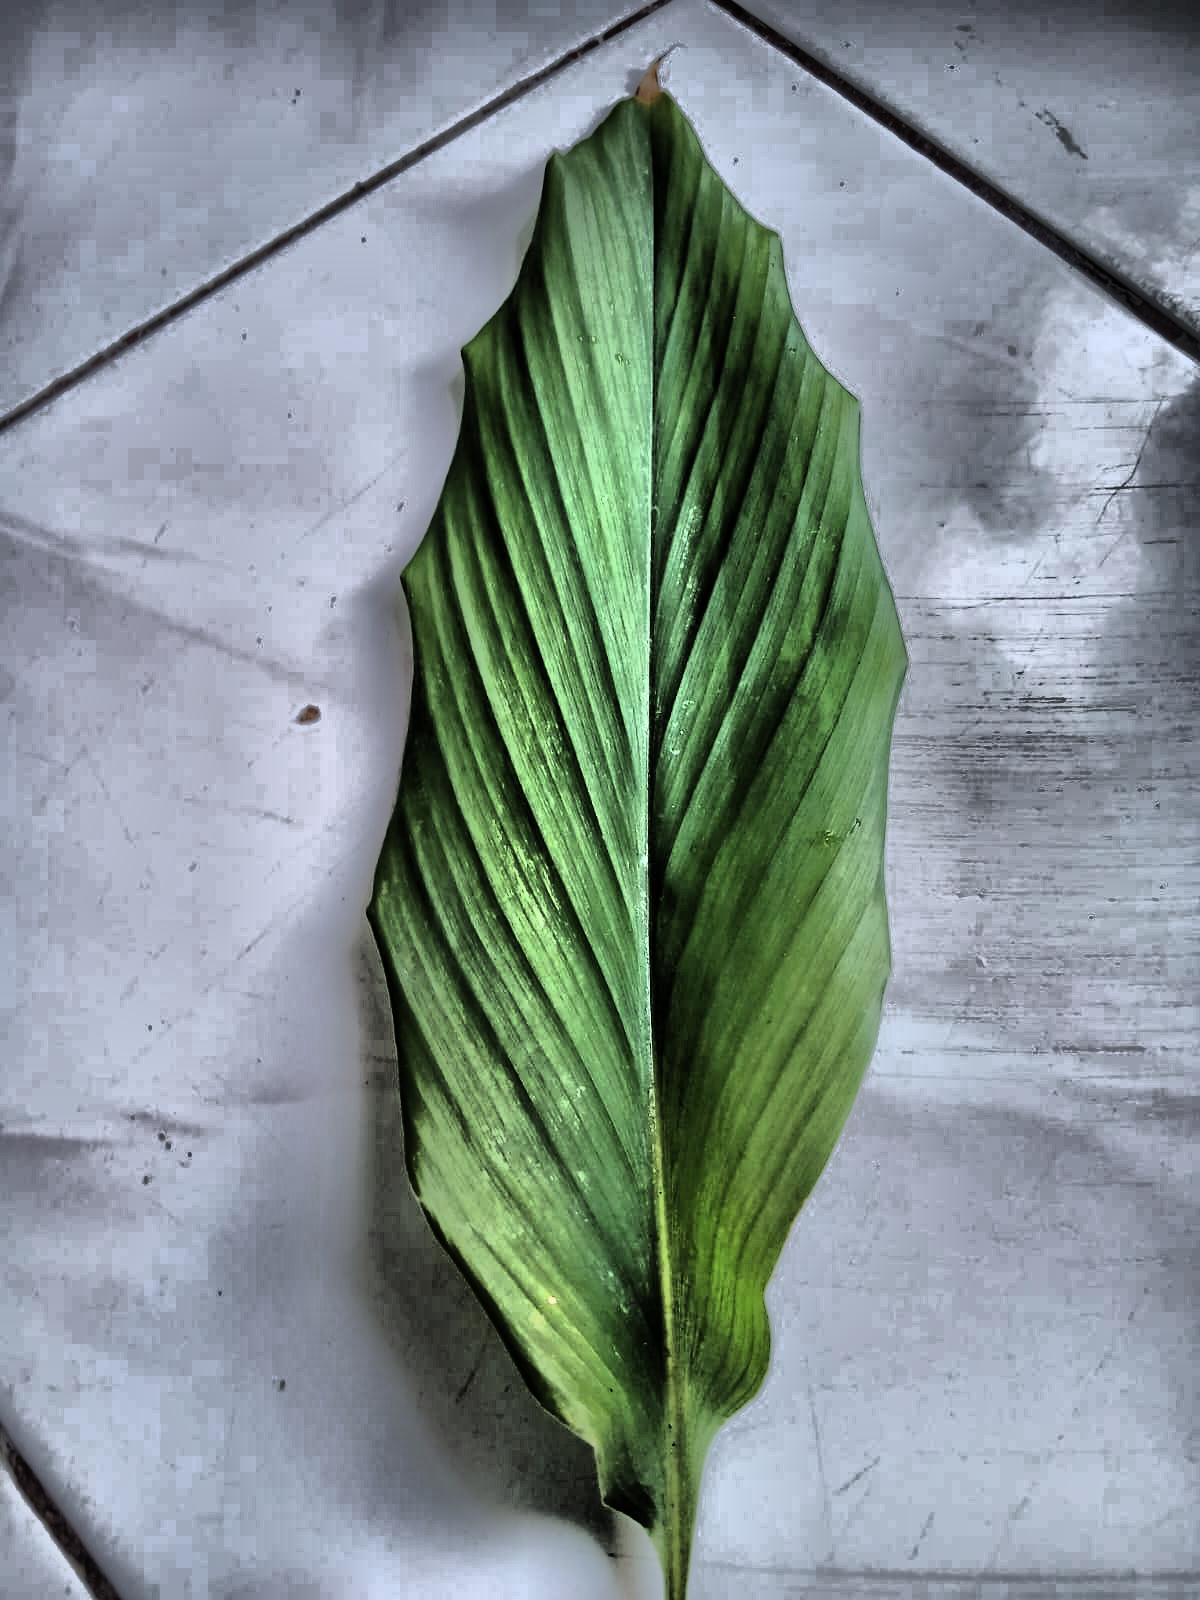daun kunyit: (371, 79, 905, 1599)
